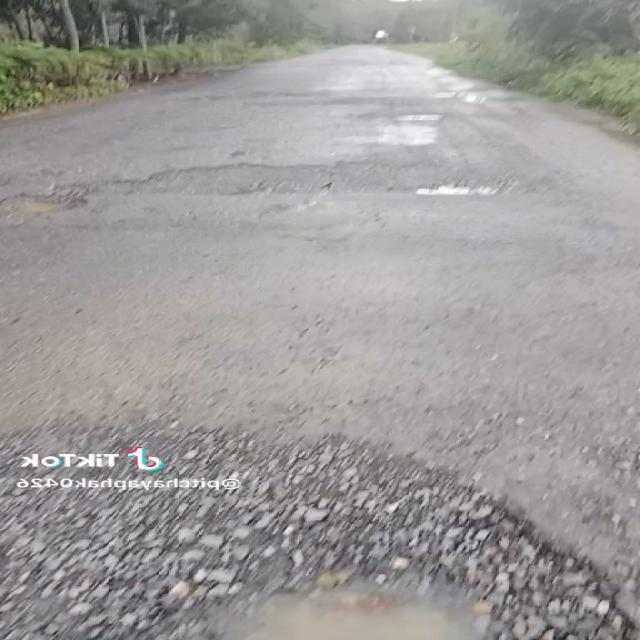Poth-hole: (374, 167, 508, 221)
